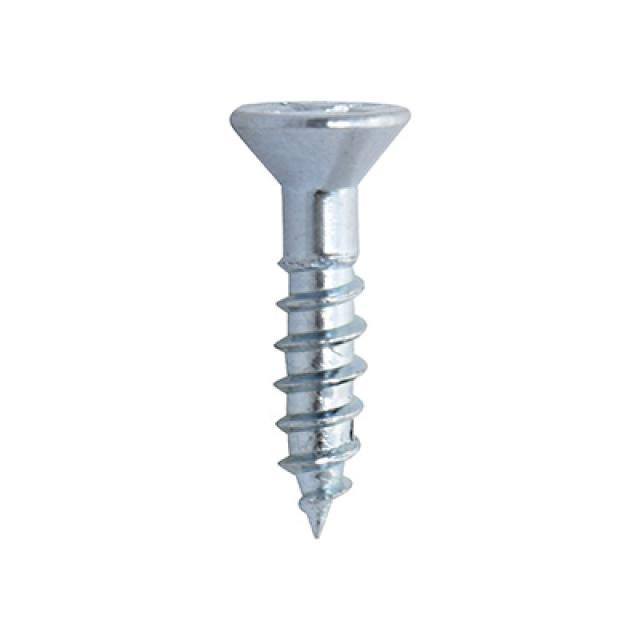Dry Waste: (200, 66, 436, 554)
